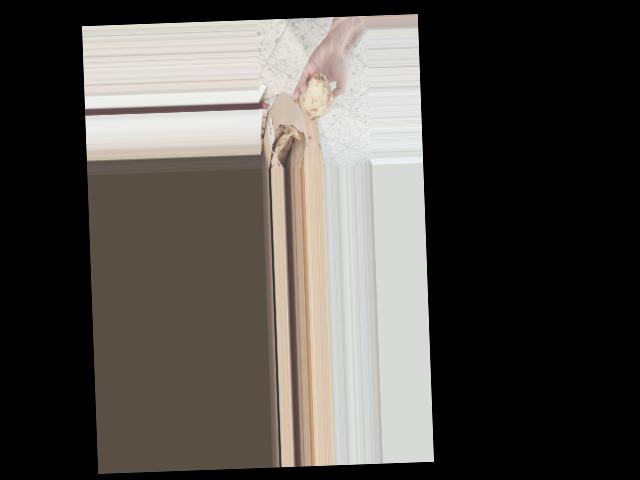onion: (295, 71, 336, 120)
